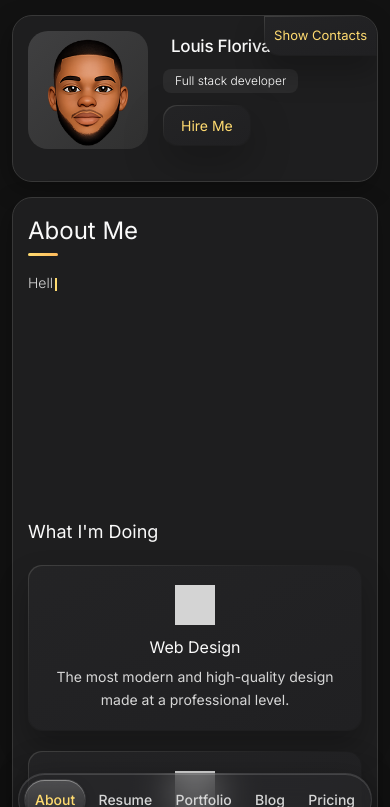
Test: layout › exposes the sidebar contacts toggle state
Expected: the heading "About me" is shown, [28,216,138,245]
Click the button "Show Contacts" at (321,36), box [264,16,377,56]
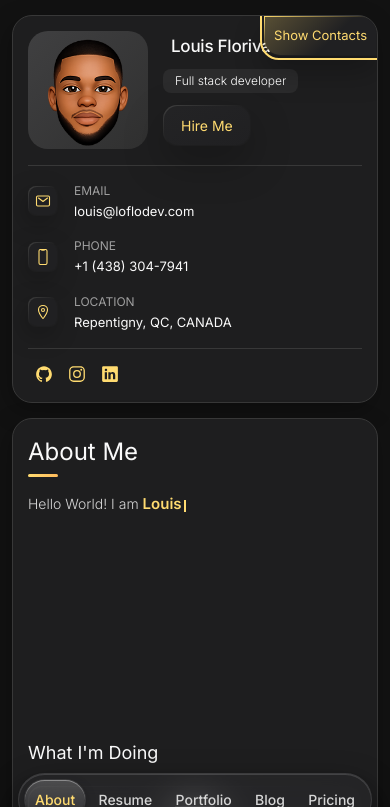
Expected: the button "Show Contacts" is expanded, [264,16,377,56]
